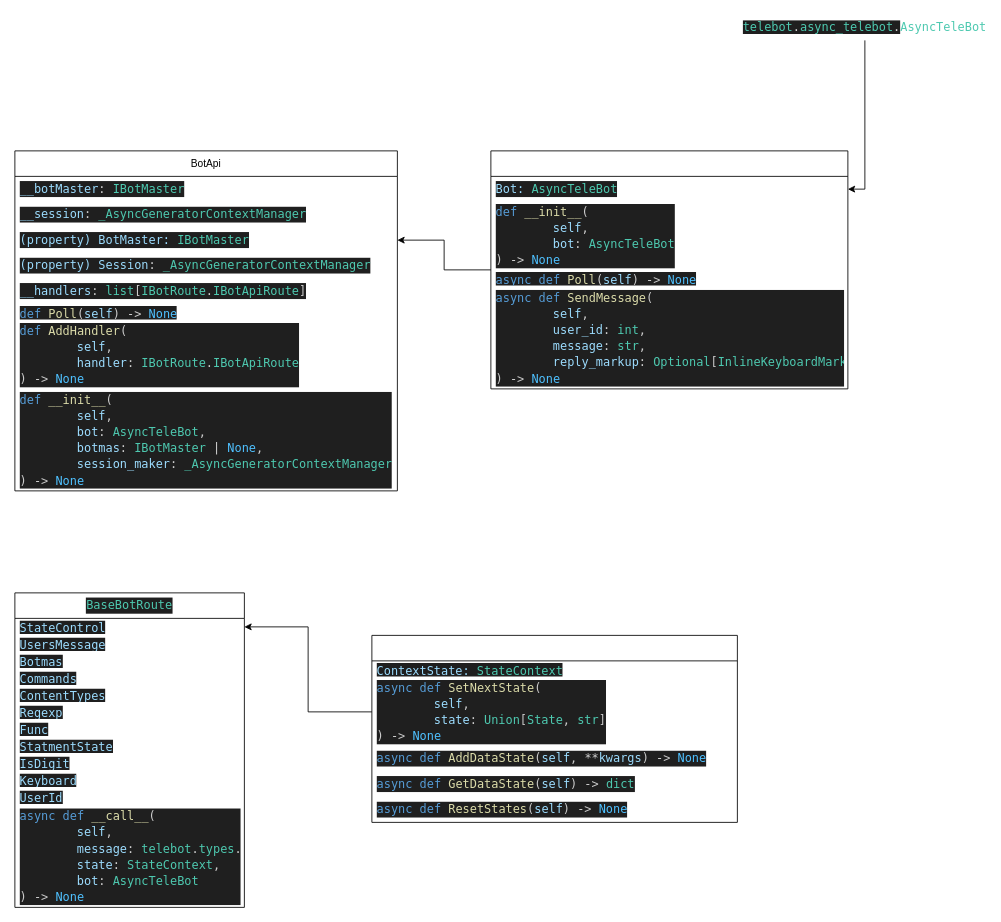
The diagram is 1001 pixels wide and 922 high, and some of its shapes have lost their labels. The shapes that lost their labels are listed below. From the top down, each one's box as (x1, y1, x2, y2) in pixels, then its label:
(490, 150, 848, 389): BotMaster
(371, 635, 737, 822): StateController
